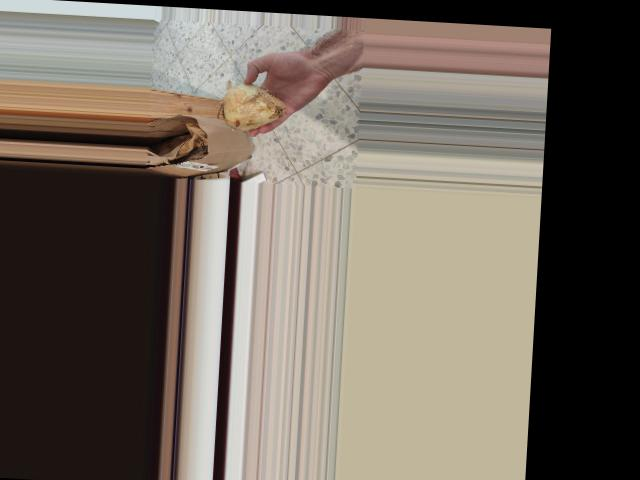onion: (218, 80, 290, 135)
